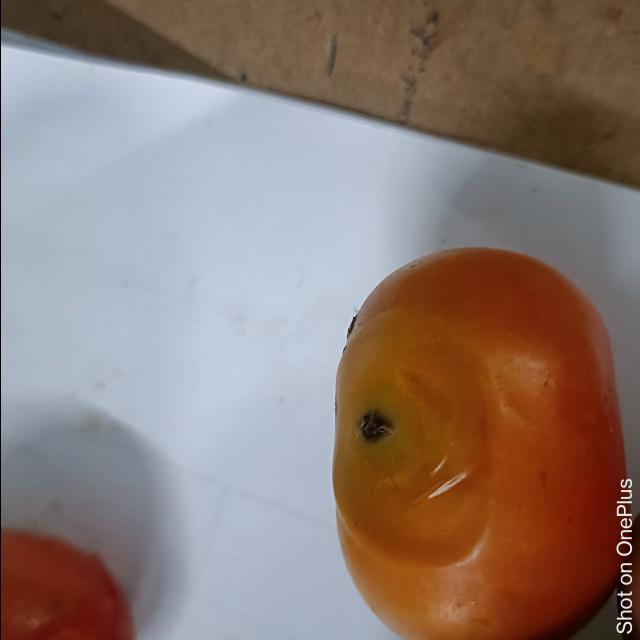Botrytis: (354, 413, 394, 445)
